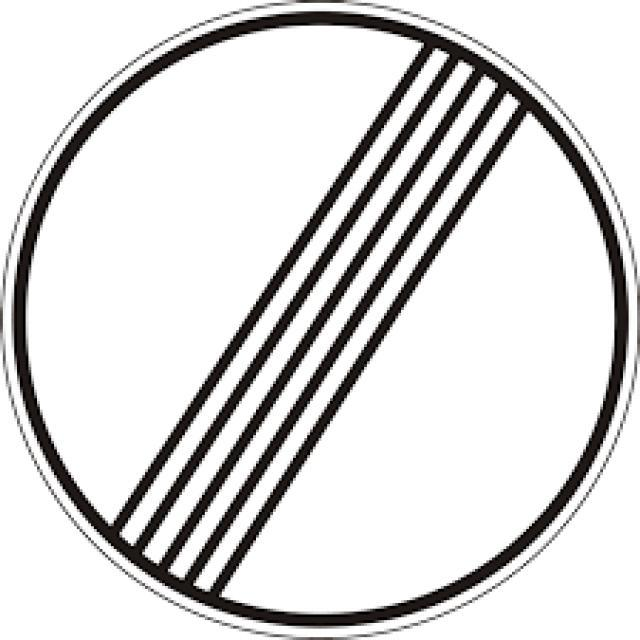restriction ends: (15, 15, 626, 625)
